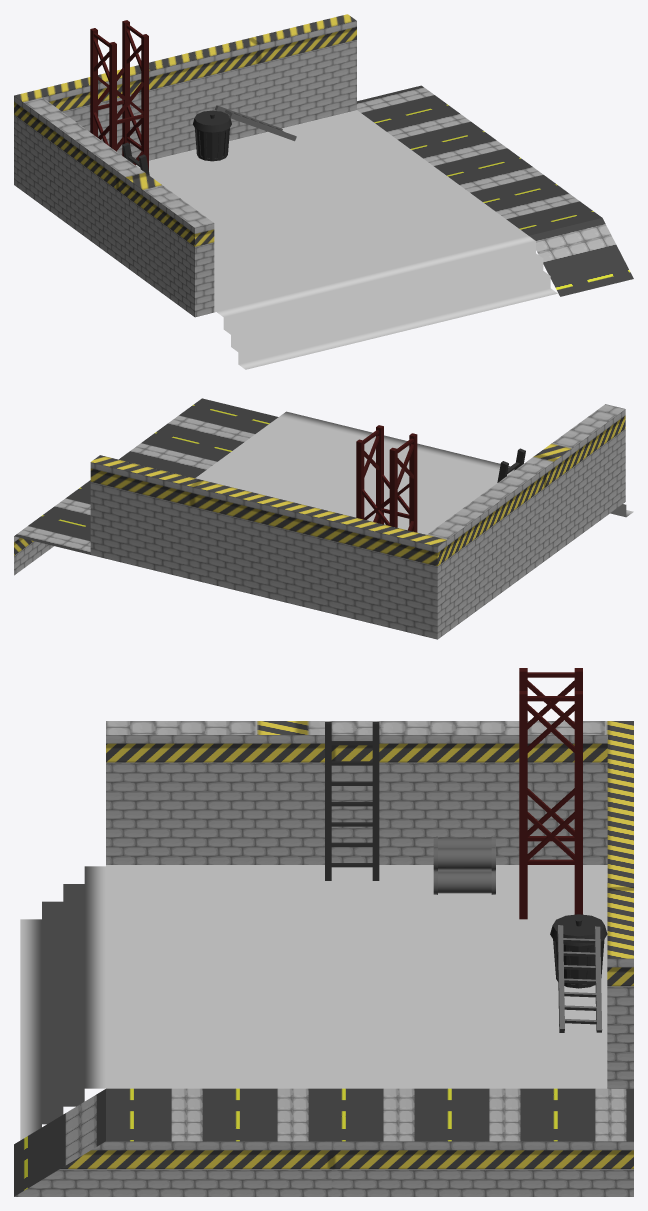
Rendered from map.FBX.
The picture shows the model from 3 angles, top to bottom: view 1: azimuth 30°, elevation 25°; view 2: azimuth 150°, elevation 25°; view 3: azimuth 270°, elevation 25°; orthographic projection. The views are drawn at different scales.
Parts seen in each view (by area): view 1: Box003, Plane001, Box002, Cylinder003, Box006; view 2: Box003, Box002, Plane001, Box005; view 3: Box003, Plane001, Box002, Box005, Cylinder002, Box006, Cylinder003.
Boxes of the visible parts, left/top/right/bottom form: Box003: left=14, top=14, right=633, bottom=317; Plane001: left=217, top=236, right=557, bottom=369; Box002: left=90, top=20, right=148, bottom=170; Cylinder003: left=193, top=110, right=231, bottom=161; Box006: left=214, top=105, right=296, bottom=141; Box003: left=14, top=398, right=625, bottom=639; Box002: left=356, top=425, right=417, bottom=532; Plane001: left=279, top=411, right=633, bottom=517; Box005: left=497, top=448, right=525, bottom=482; Box003: left=14, top=721, right=633, bottom=1196; Plane001: left=20, top=866, right=106, bottom=1140; Box002: left=519, top=668, right=582, bottom=919; Box005: left=325, top=722, right=379, bottom=880; Cylinder002: left=433, top=836, right=495, bottom=894; Box006: left=557, top=925, right=602, bottom=1032; Cylinder003: left=550, top=914, right=607, bottom=988.
Size of the model in its own units: 830 by 374 by 750.
